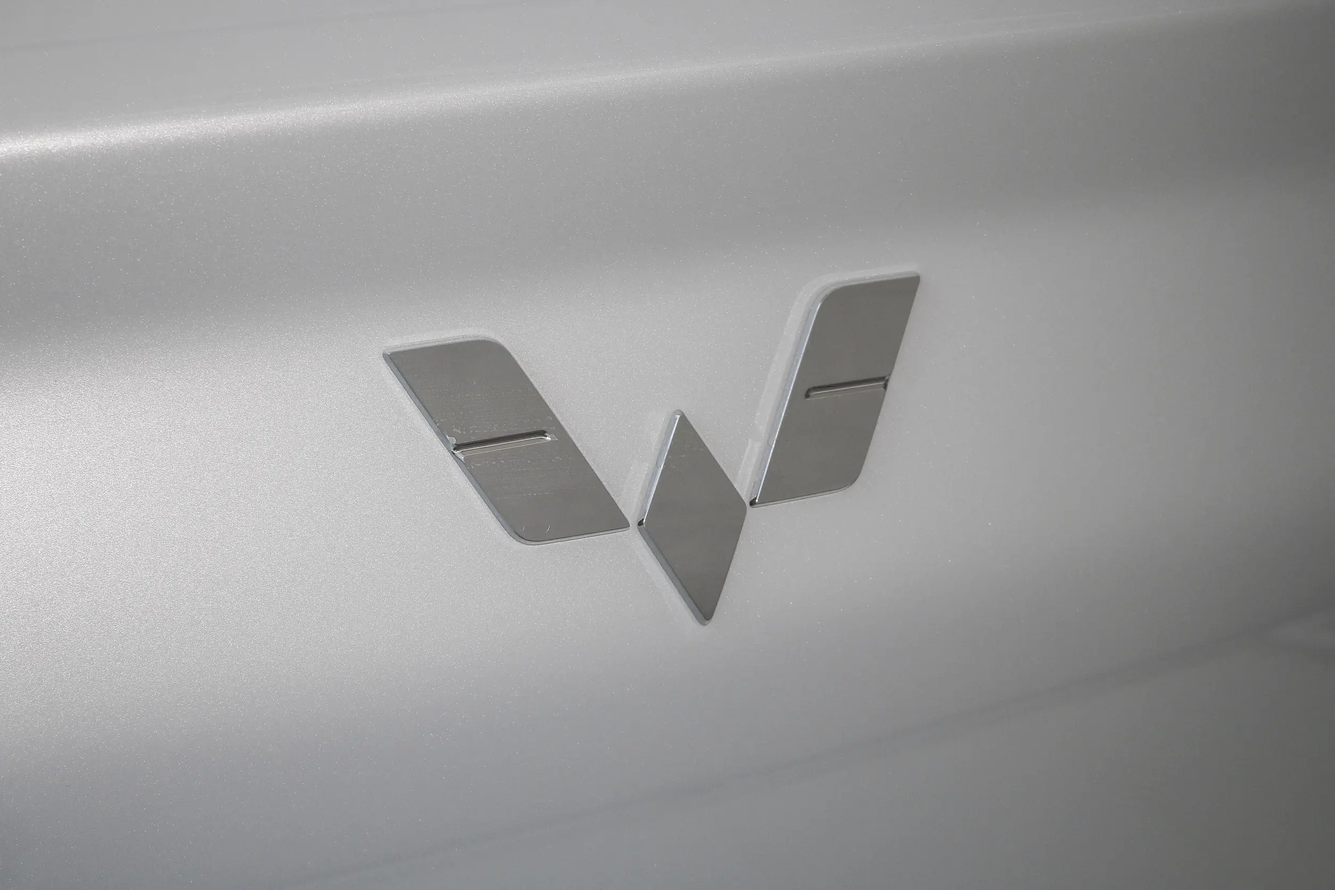SGMW: (382, 272, 919, 625)
